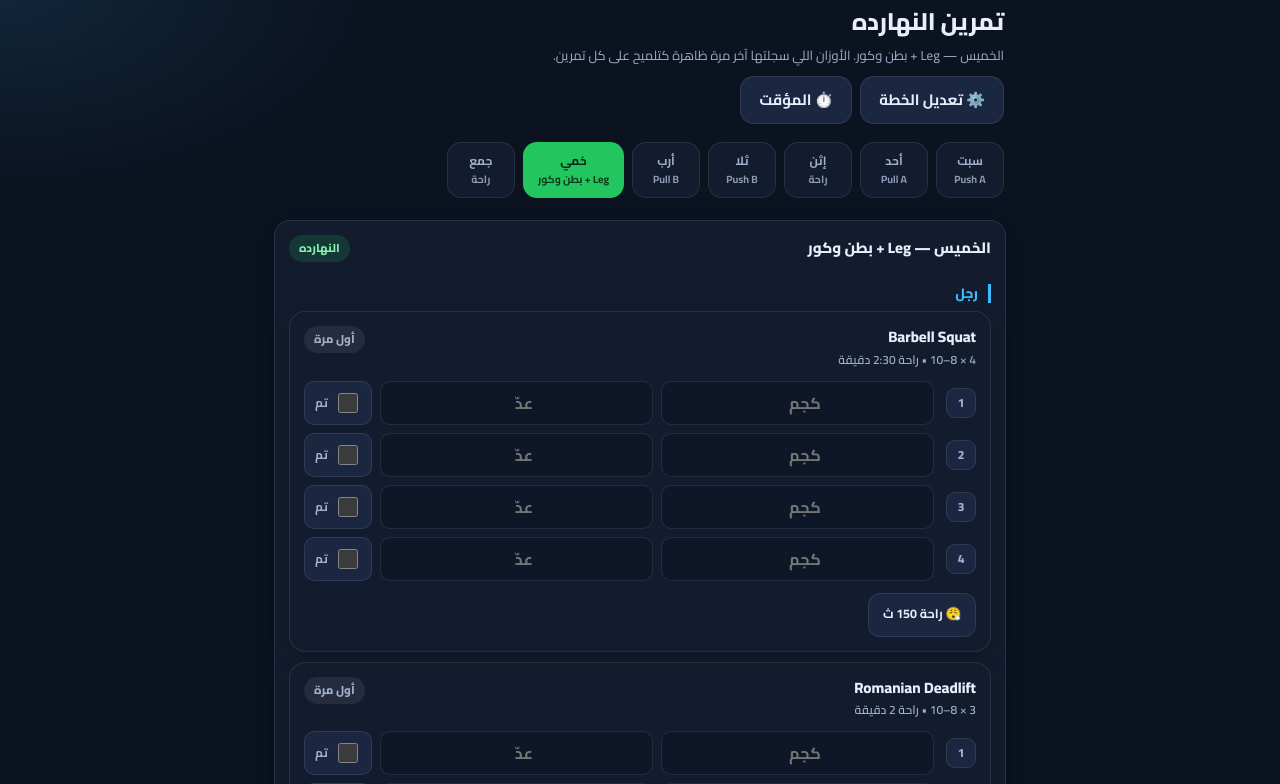
it: WorkoutPage › refuses to finish an empty workout
The image size is (1280, 784).
Click the button "سبت Push A" at (970, 170), box [936,142,1004,198]
(page scrolled)
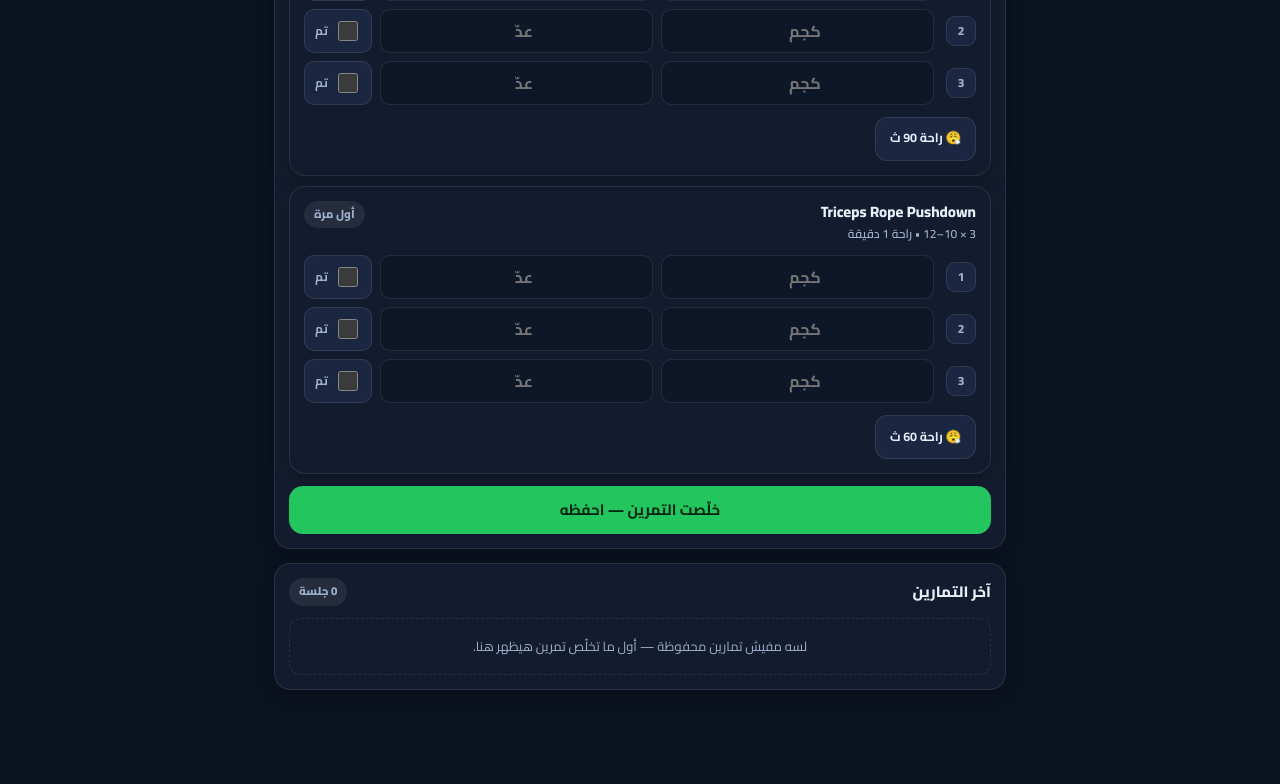
Click the button "خلّصت التمرين — احفظه" at (640, 510), box [289,486,991,534]
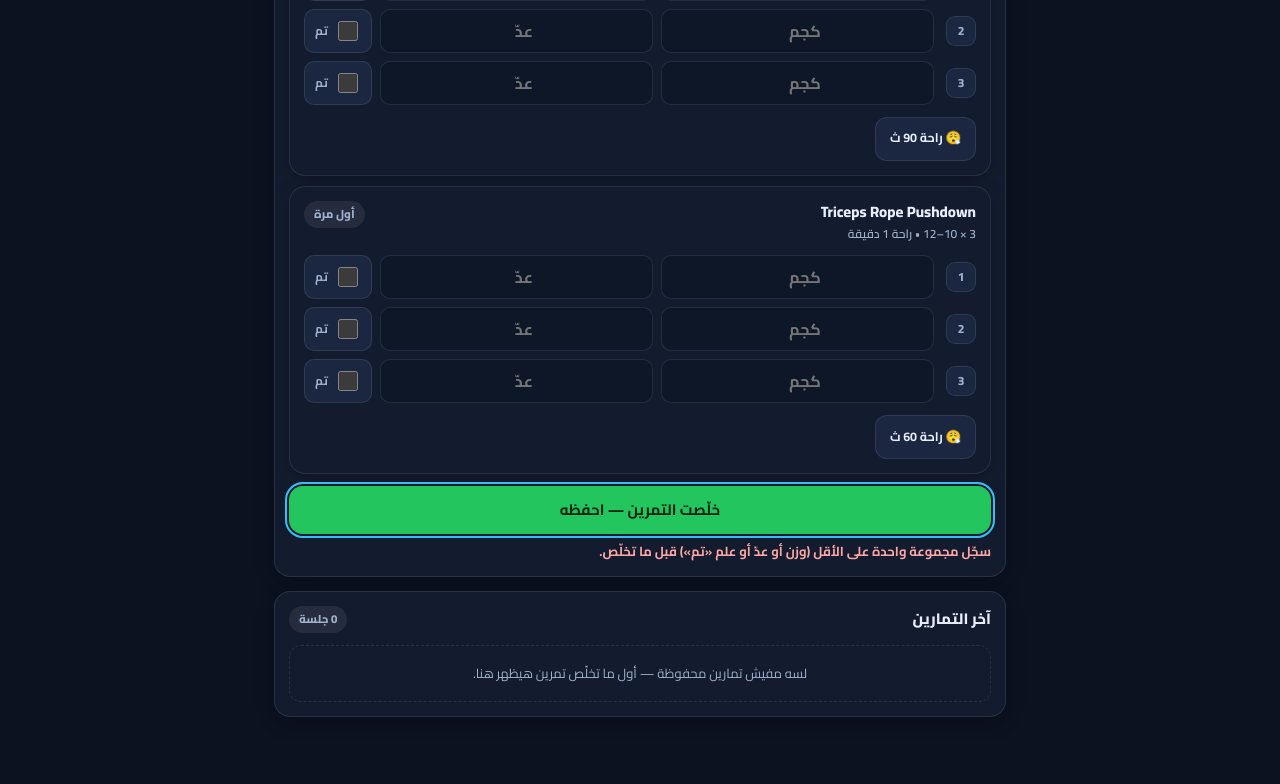
Check: the message with test id "workout-feedback" shows "سجّل مجموعة واحدة على الأقل", box [599,539,991,563]
